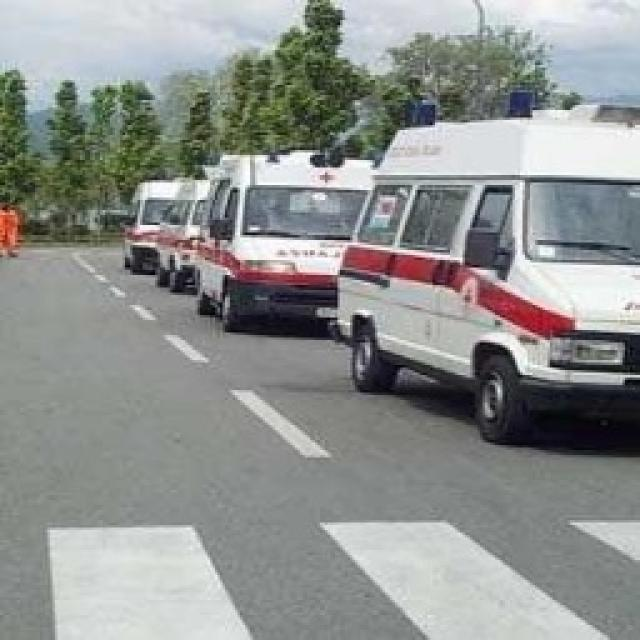emergency-vehicle: (335, 88, 640, 452), (193, 152, 384, 336), (125, 180, 189, 276), (160, 180, 210, 281)
